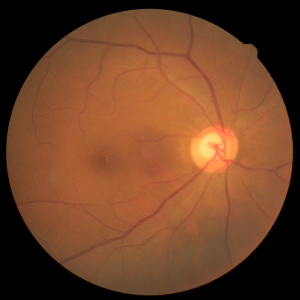glaucoma: (81, 95, 265, 227)
